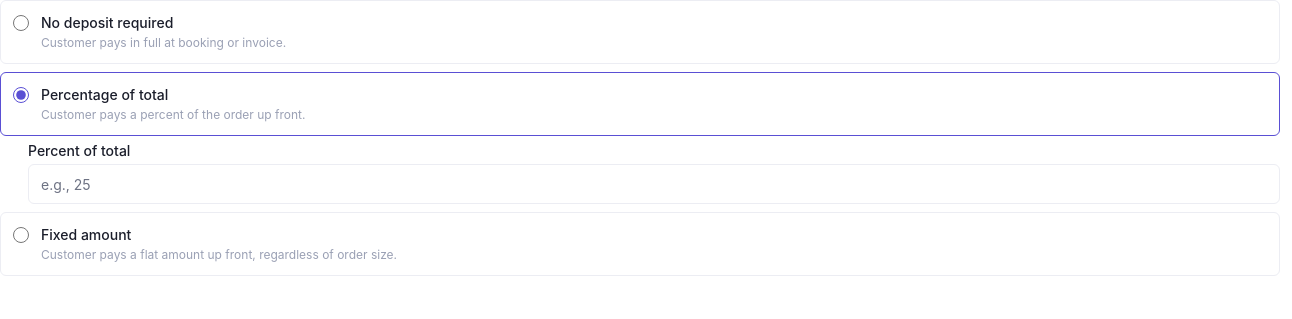
Test case: DepositPolicyEditor — Decision 3 validation › Percentage: rejects non-integer 25.5 with inline error
This screenshot has width=1292, height=319.
Type "25.5" into the field labelled "Percent of total".
click(654, 184); type("25.5")  # box [28,164,1280,204]
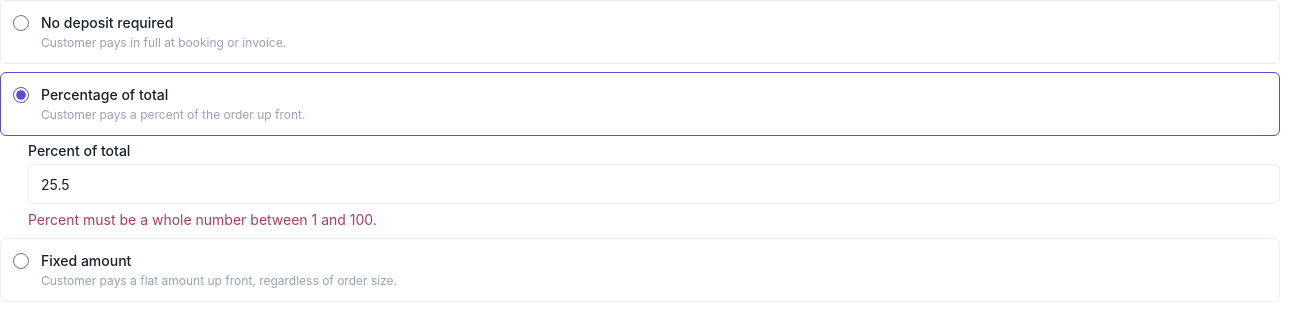
Check: the message shows "whole number", box [28,211,377,228]
